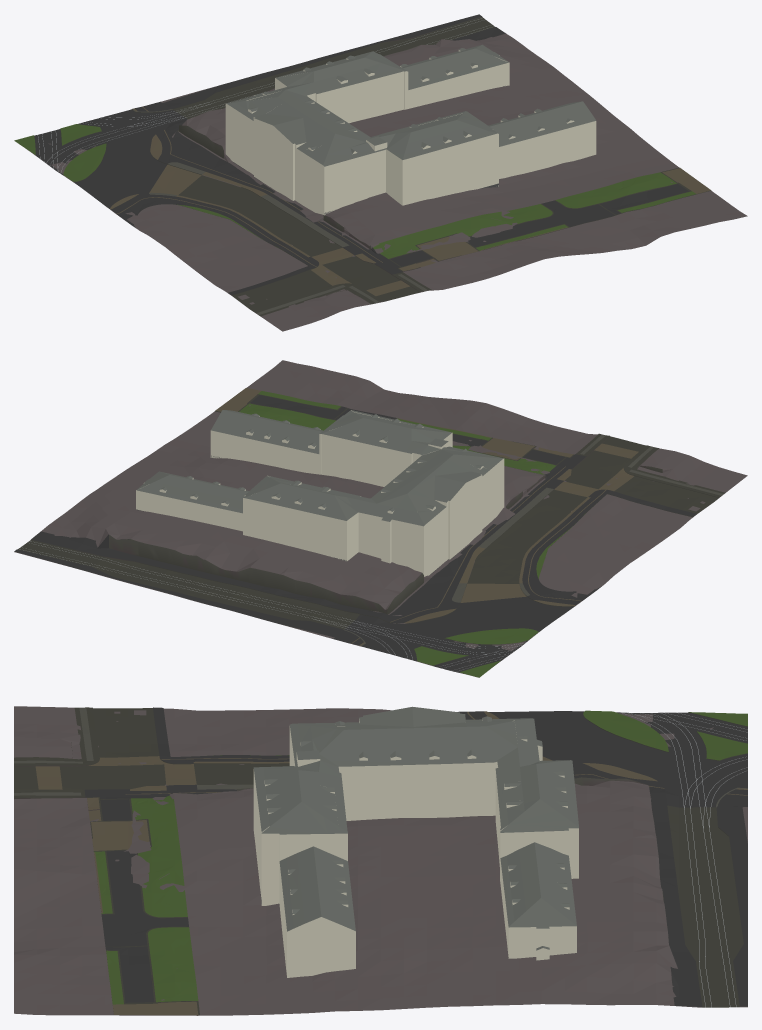
3 renders of one model, top to bottom at view 1: azimuth 30°, elevation 25°; view 2: azimuth 150°, elevation 25°; view 3: azimuth 270°, elevation 25°, orthographic. The views are drawn at different scales.
Parts seen in each view (by area): view 1: c_m01_m04; view 2: c_m01_m04; view 3: c_m01_m04.
Boxes of the visible parts, x1=… form: c_m01_m04: x1=14, y1=14, x2=747, y2=331; c_m01_m04: x1=14, y1=360, x2=747, y2=677; c_m01_m04: x1=14, y1=706, x2=747, y2=1015.
Bounding box in the file's own units: 128 × 19.18 × 128.
